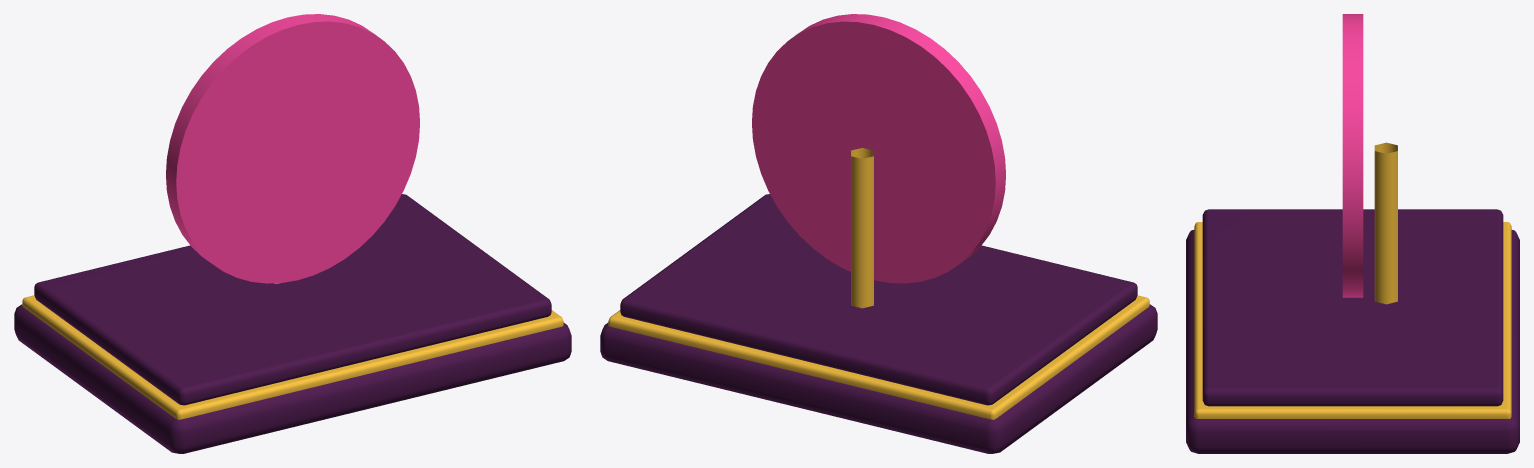
Rendered from chess.insignia.heart.lod1.glb.
3 views of the same model, side by side, from view 1: azimuth 30°, elevation 25°; view 2: azimuth 150°, elevation 25°; view 3: azimuth 270°, elevation 25° (orthographic).
Visible parts, largest first — view 1: insignia_disc, display_top, display_base, brass_band; view 2: display_top, insignia_disc, display_base, brass_band, medallion_support; view 3: display_top, display_base, brass_band, insignia_disc, medallion_support.
Part boxes in pixels (x1=…): insignia_disc: x1=166, y1=14, x2=419, y2=283; display_top: x1=34, y1=194, x2=551, y2=405; display_base: x1=14, y1=304, x2=571, y2=453; brass_band: x1=22, y1=295, x2=563, y2=419; display_top: x1=620, y1=194, x2=1137, y2=405; insignia_disc: x1=752, y1=14, x2=1005, y2=283; display_base: x1=600, y1=304, x2=1157, y2=453; brass_band: x1=608, y1=295, x2=1149, y2=419; medallion_support: x1=851, y1=148, x2=873, y2=308; display_top: x1=1202, y1=209, x2=1503, y2=406; display_base: x1=1186, y1=230, x2=1519, y2=453; brass_band: x1=1194, y1=222, x2=1511, y2=418; insignia_disc: x1=1342, y1=14, x2=1363, y2=297; medallion_support: x1=1374, y1=142, x2=1397, y2=304.
Bounding box in the file's own units: 0.672 × 0.528 × 0.48.
